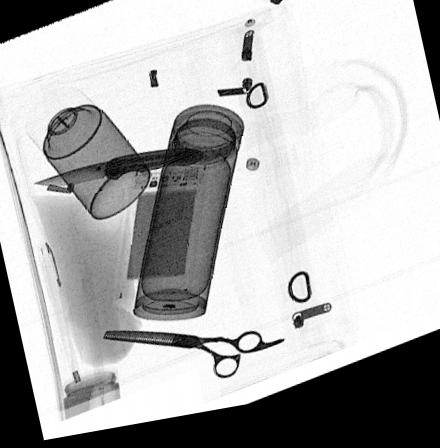Knife: (33, 152, 201, 188)
Powerbank: (111, 166, 206, 302)
Scissors: (101, 334, 284, 386)
Sprayer: (24, 87, 150, 223)
